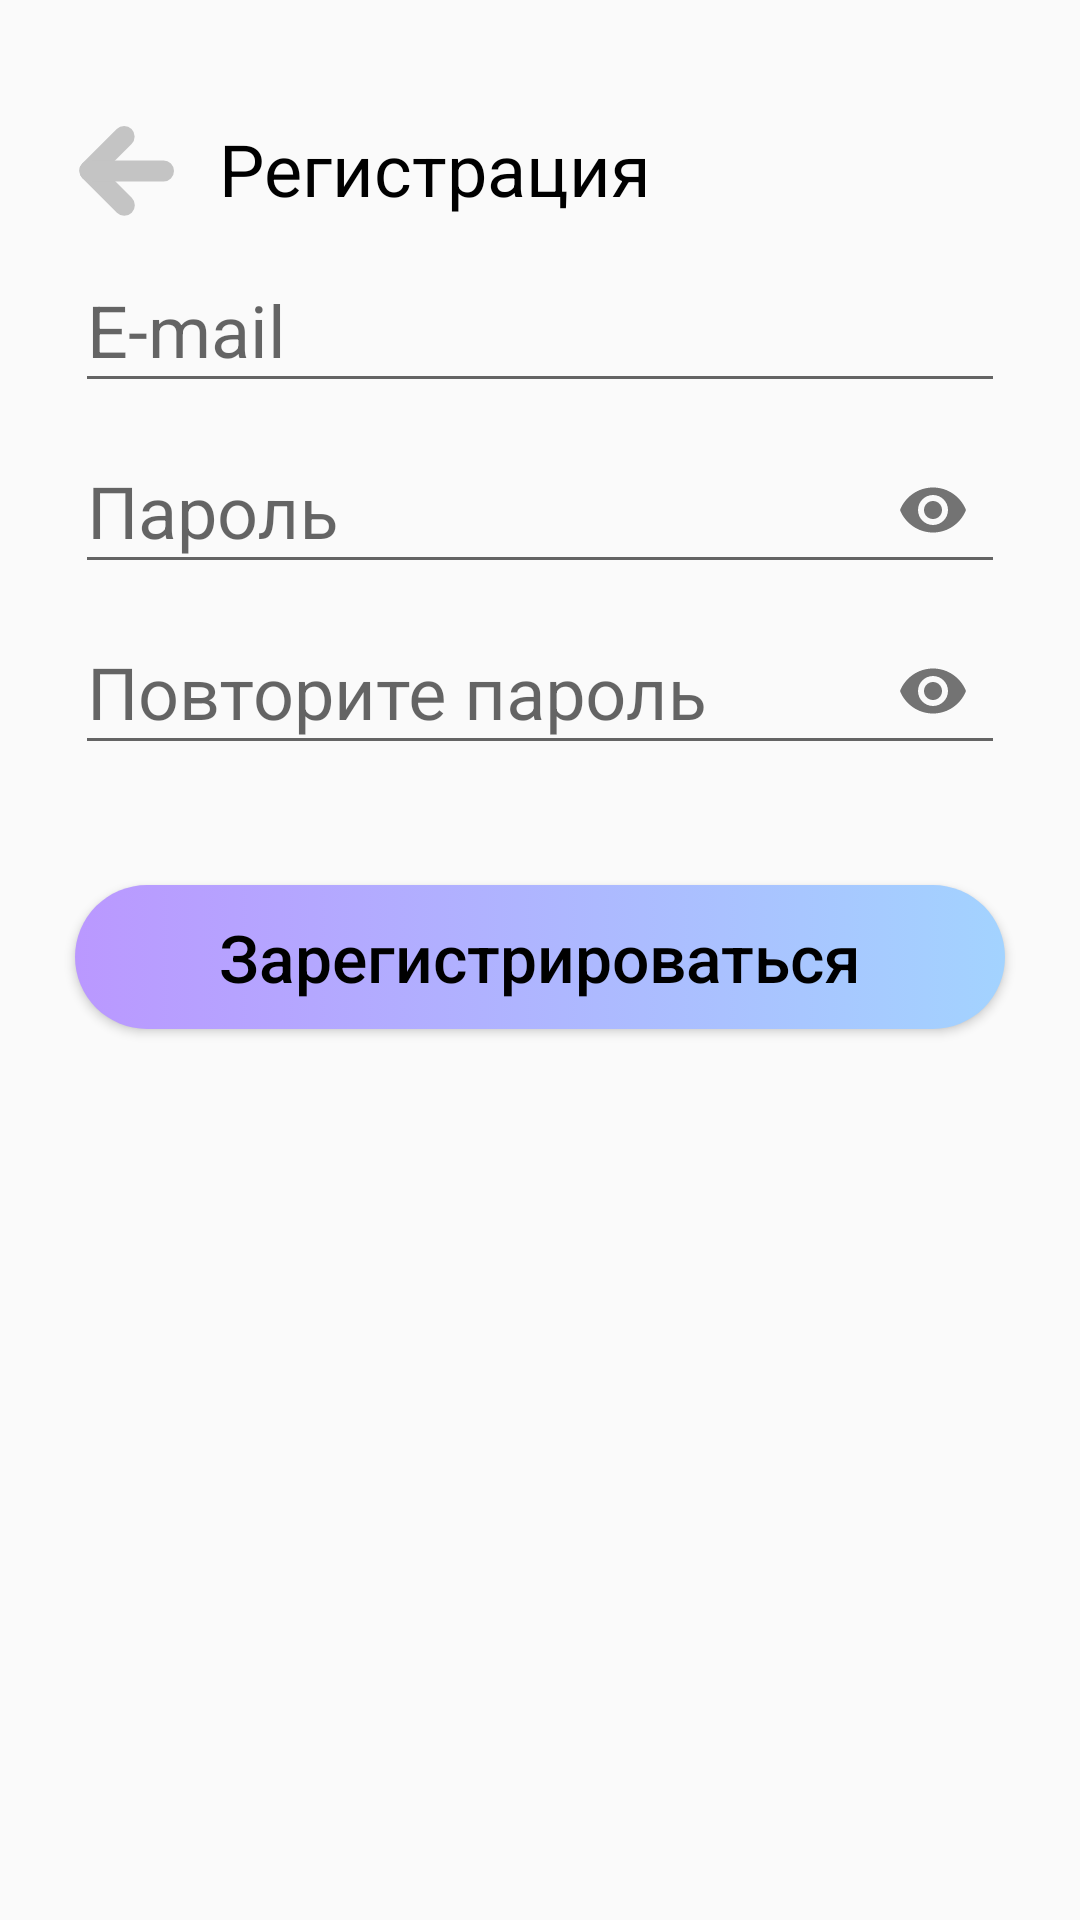

Locate icon controls on the screen. Image size 1080w x 1920h, boxes as (x1=x1, y1=y1, x2=x2, y2=y2).
back: (x1=79, y1=126, x2=174, y2=216)
